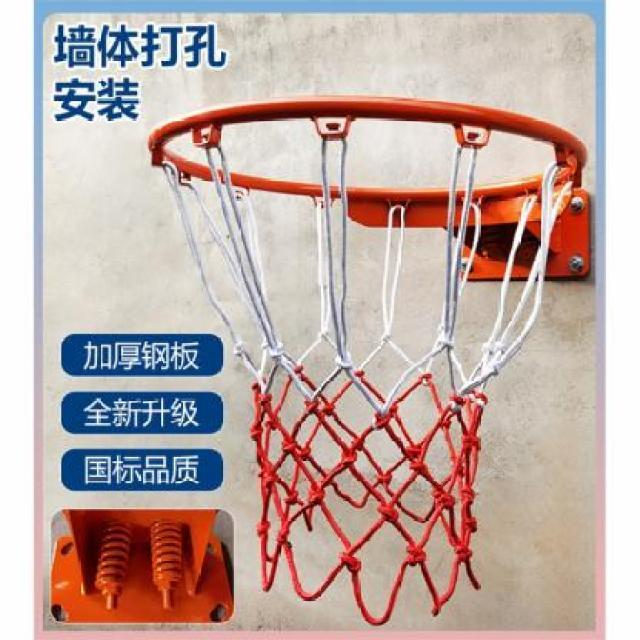rim: (149, 95, 586, 628)
